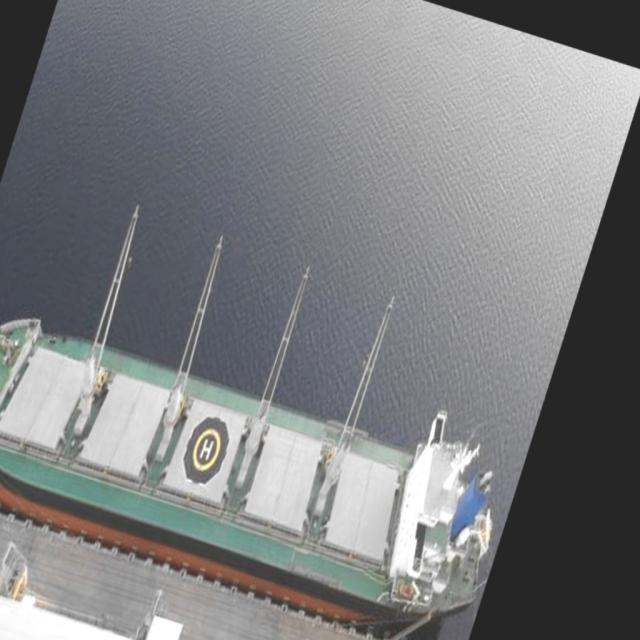helipad: (190, 427, 221, 471)
